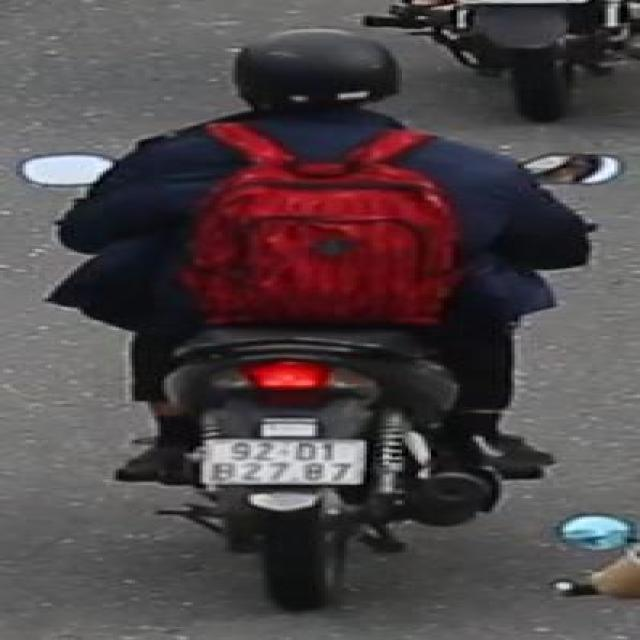LP: (190, 432, 376, 492)
helmet: (207, 28, 423, 133)
